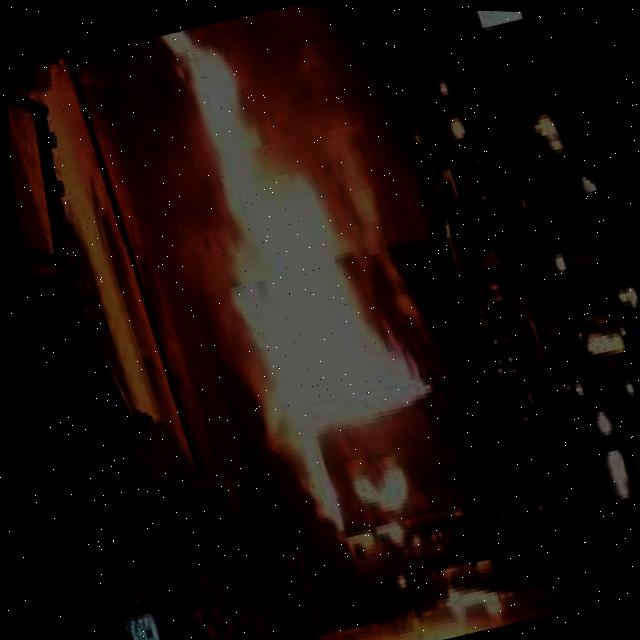Fire: (106, 2, 435, 456)
Smoke: (224, 4, 446, 258)
